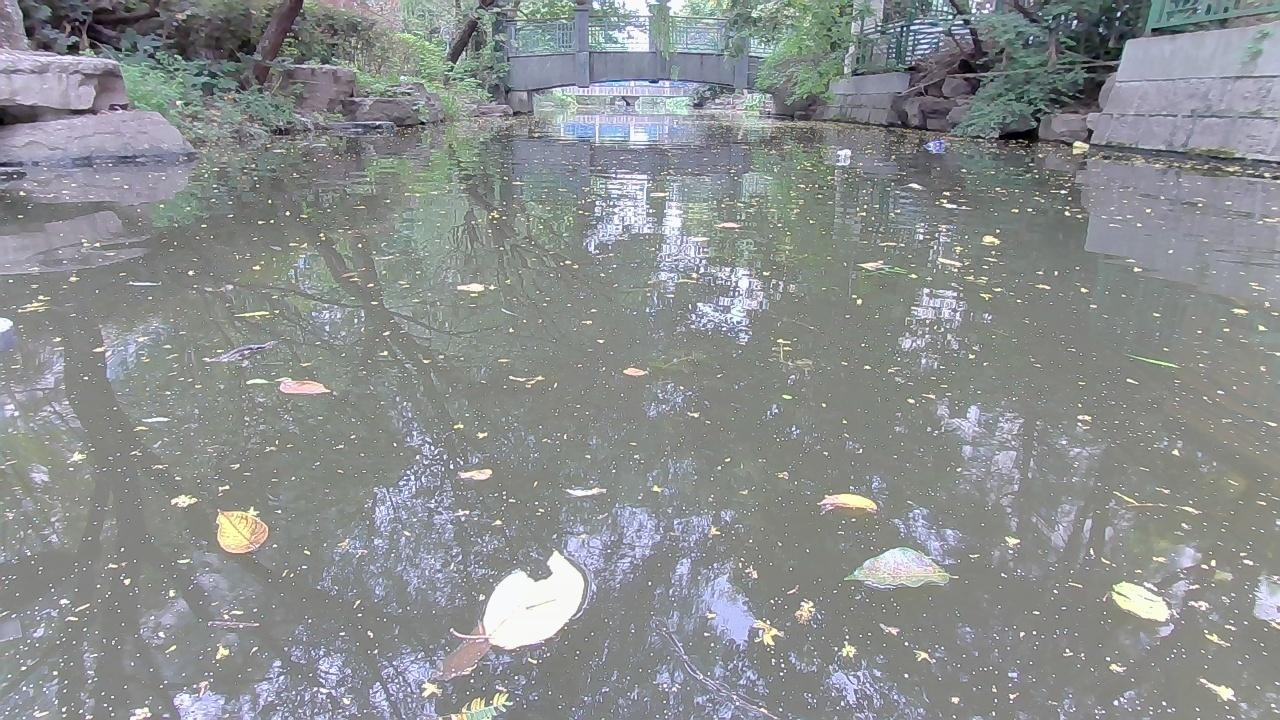bottle: (923, 138, 949, 151), (830, 146, 852, 159), (1070, 140, 1091, 151)
